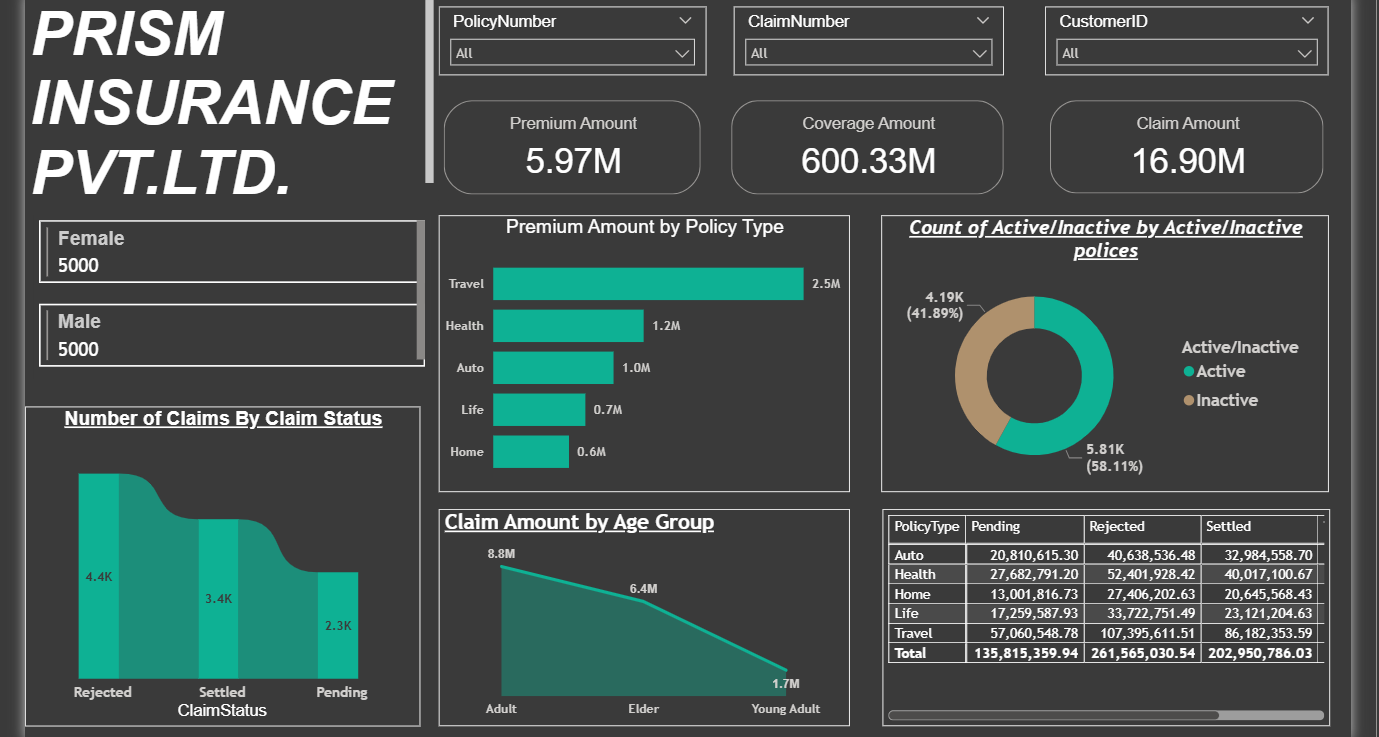

The page's visual inventory and layout, read from the dashboard file:
{"tool":"powerbi","page":{"name":"Page 1","canvas":[1280,720],"ordinal":0},"visuals":[{"type":"slicer","fields":{"Values":["InsuranceData.PolicyNumber"]},"box":[399.3,12.1,258.2,66.4],"z":0},{"type":"slicer","fields":{"Values":["InsuranceData.ClaimNumber"]},"box":[684.1,12.1,260.6,66.4],"z":1000},{"type":"slicer","fields":{"Values":["InsuranceData.CustomerID"]},"box":[984.5,12.1,273.9,66.4],"z":2000},{"type":"textbox","box":[0,0,399.3,199.1],"z":3000},{"type":"cardVisual","fields":{"Data":["Sum(InsuranceData.PremiumAmount)"]},"box":[399.3,97.7,258.2,101.3],"z":4000},{"type":"cardVisual","fields":{"Data":["Sum(InsuranceData.CoverageAmount)"]},"box":[676.8,97.7,273.9,101.3],"z":5000},{"type":"cardVisual","fields":{"Data":["Sum(InsuranceData.ClaimAmount)"]},"box":[983.9,97.4,274.4,100.2],"z":6000},{"type":"multiRowCard","fields":{"Values":["InsuranceData.Gender","CountNonNull(InsuranceData.Gender)"]},"box":[8.2,214.1,382.8,157.8],"z":7000},{"type":"ribbonChart","title":"Number of Claims By Claim Status ","fields":{"Category":["InsuranceData.ClaimStatus"],"Y":["CountNonNull(InsuranceData.ClaimStatus)"]},"box":[0,397.9,381.5,308.7],"z":8000},{"type":"barChart","title":"Premium Amount by Policy Type","fields":{"Category":["InsuranceData.PolicyType"],"Y":["Sum(InsuranceData.PremiumAmount)"]},"box":[399.3,214.1,396.6,267.6],"z":9000},{"type":"lineChart","fields":{"Category":["InsuranceData.Age Group"],"Y":["Sum(InsuranceData.ClaimAmount)"]},"box":[399.3,496.7,396.6,209.9],"z":10000},{"type":"donutChart","title":"Count of Active/Inactive by Active/Inactive  polices","fields":{"Category":["InsuranceData.Active/Inactive"],"Series":["InsuranceData.Active/Inactive"],"Y":["CountNonNull(InsuranceData.Active/Inactive)"]},"box":[826.1,214.1,432.2,267.6],"z":11000},{"type":"pivotTable","fields":{"Values":["Sum(InsuranceData.CoverageAmount)"],"Rows":["InsuranceData.PolicyType"],"Columns":["InsuranceData.ClaimStatus"]},"box":[827.4,496.7,432.2,209.9],"z":12000}]}

Visuals, with their boxes on the page's 1280x720 design canvas (x1, y1, x2, y2). These are canvas units, not pixel positions in the 1379x737 screenshot, which may show the page scaled, cropped or inside an application window:
slicer - InsuranceData.PolicyNumber: select_region(399, 12, 658, 78)
slicer - InsuranceData.ClaimNumber: select_region(684, 12, 945, 78)
slicer - InsuranceData.CustomerID: select_region(984, 12, 1258, 78)
textbox: select_region(0, 0, 399, 199)
cardVisual - Sum(InsuranceData.PremiumAmount): select_region(399, 98, 658, 199)
cardVisual - Sum(InsuranceData.CoverageAmount): select_region(677, 98, 951, 199)
cardVisual - Sum(InsuranceData.ClaimAmount): select_region(984, 97, 1258, 198)
multiRowCard - InsuranceData.Gender x CountNonNull(InsuranceData.Gender): select_region(8, 214, 391, 372)
"Number of Claims By Claim Status " ribbonChart: select_region(0, 398, 382, 707)
"Premium Amount by Policy Type" barChart: select_region(399, 214, 796, 482)
lineChart - InsuranceData.Age Group x Sum(InsuranceData.ClaimAmount): select_region(399, 497, 796, 707)
"Count of Active/Inactive by Active/Inactive  polices" donutChart: select_region(826, 214, 1258, 482)
pivotTable - Sum(InsuranceData.CoverageAmount) x InsuranceData.PolicyType: select_region(827, 497, 1260, 707)
